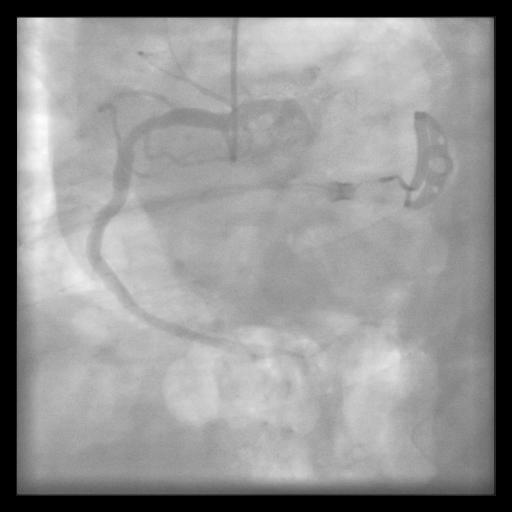Stenosis: (120, 119, 159, 141)
